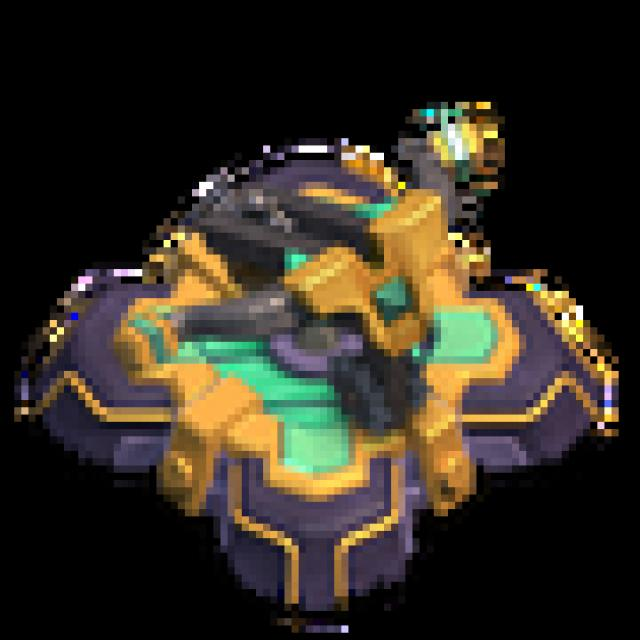x-bow: (0, 25, 640, 640)
